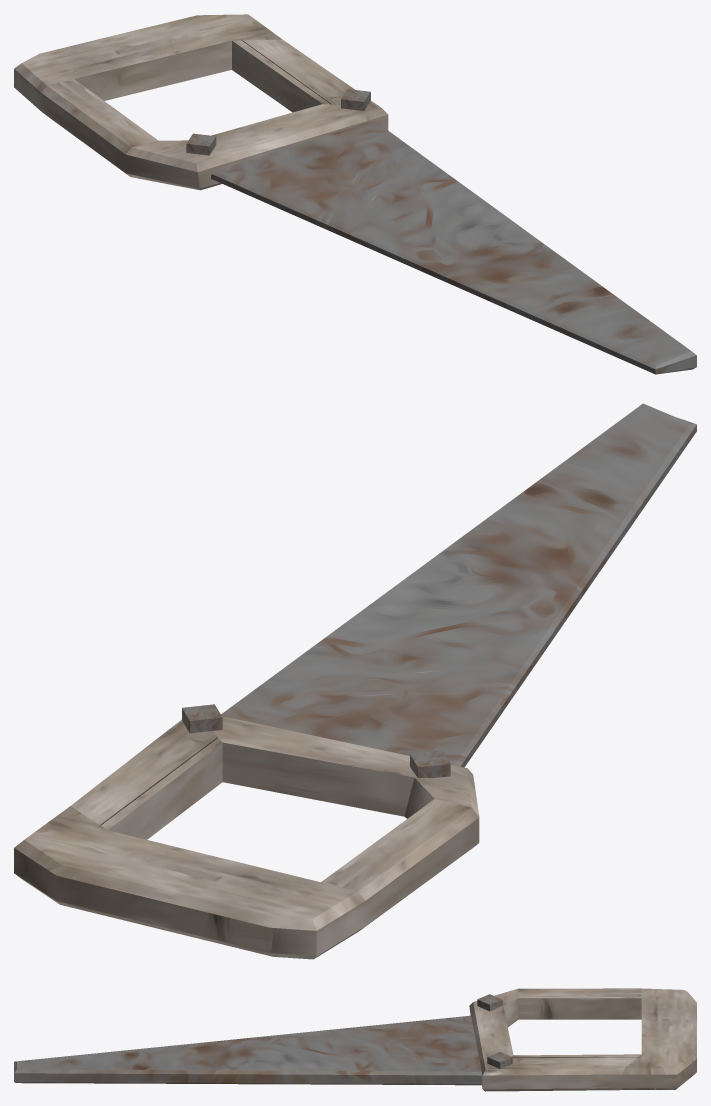
The model's file is Saw.fbx.
3 views of the same model, one above another, from view 1: azimuth 30°, elevation 25°; view 2: azimuth 150°, elevation 25°; view 3: azimuth 270°, elevation 25° (orthographic). The views are drawn at different scales.
Visible parts, largest first — view 1: Saw; view 2: Saw; view 3: Saw.
Part boxes in pixels (x1,y1,x2,y2): Saw: (14, 14, 696, 374); Saw: (14, 403, 696, 959); Saw: (14, 988, 696, 1091).
Size of the model in its own units: 26.44 by 4.27 by 89.96.
